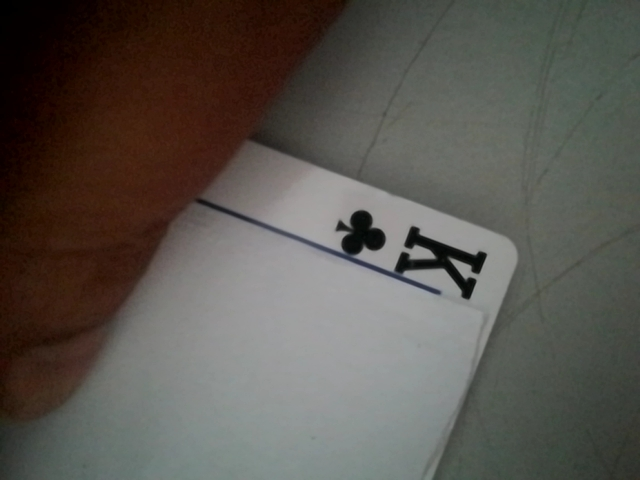mh k: (312, 195, 499, 303)
